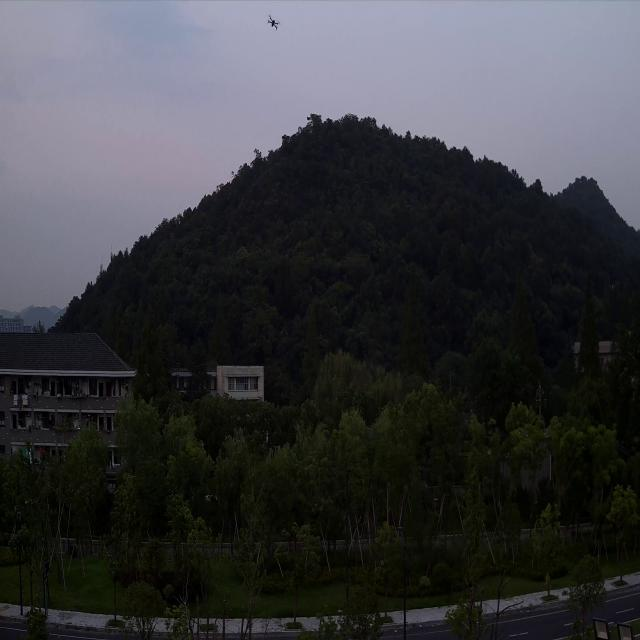UAV: (267, 14, 280, 31)
